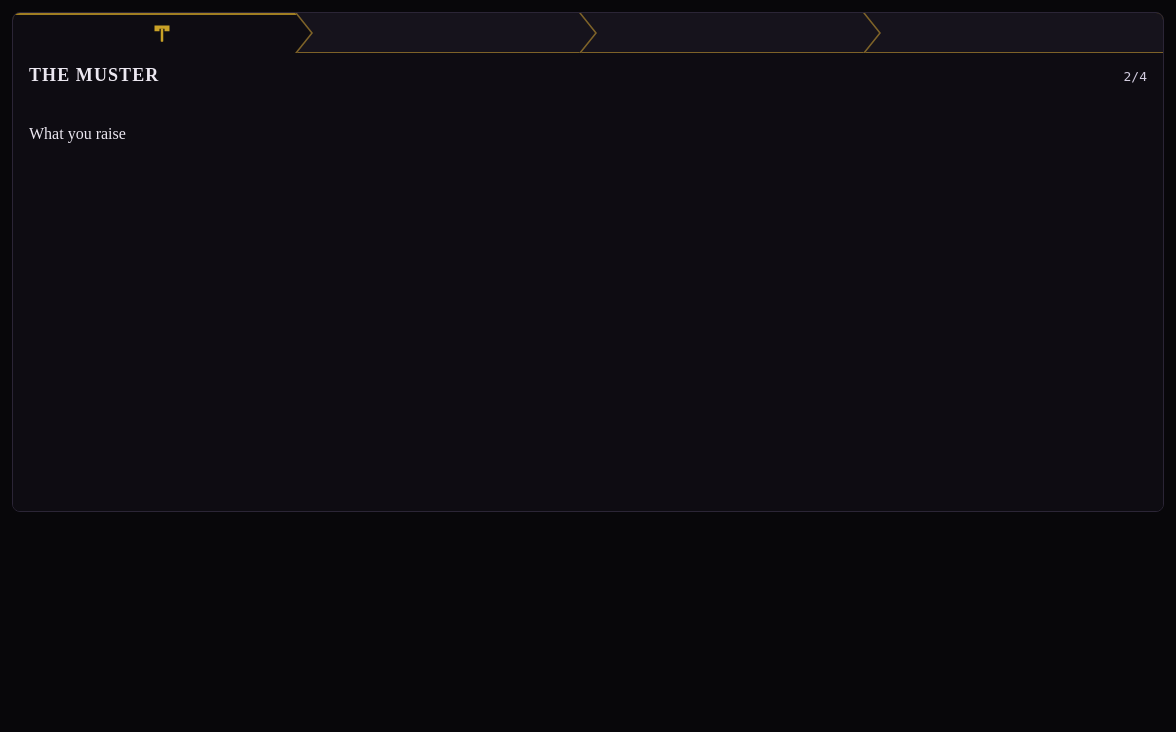
Scenario: Deck › jumps to the last tab on End
This screenshot has width=1176, height=732.
Click the 1st tab named "The Muster".
click(162, 33)  # box top-left (13, 13), bottom-right (311, 53)
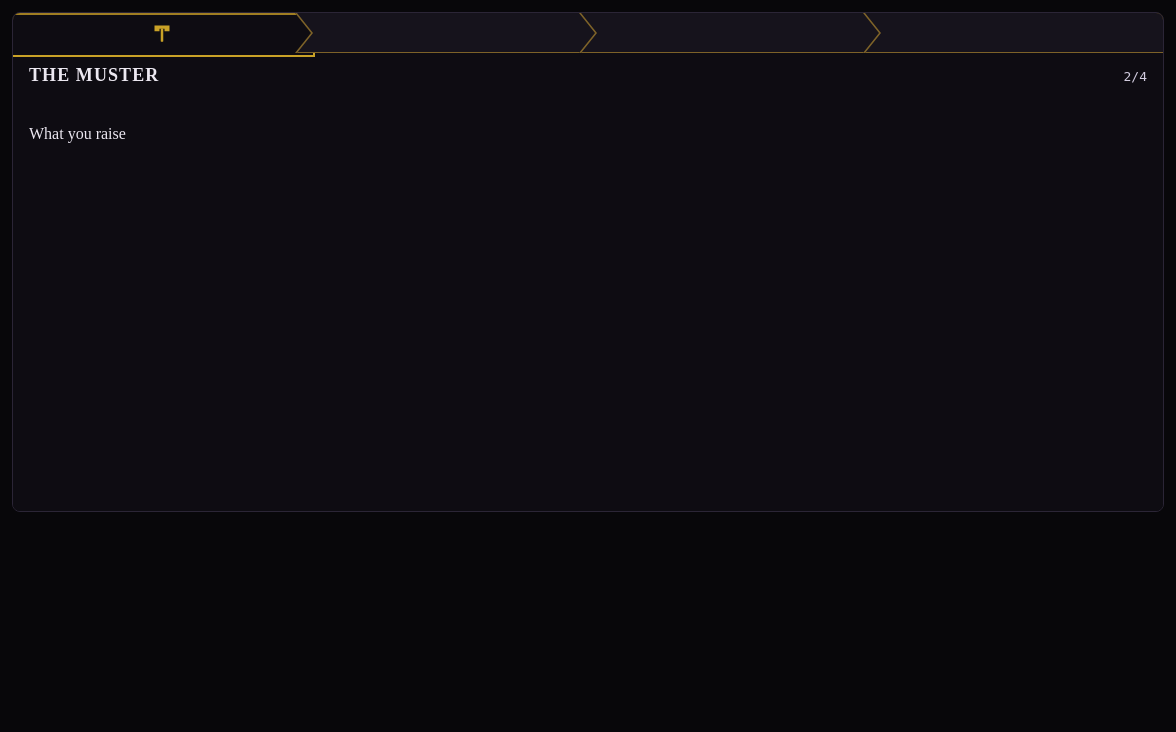
Press End
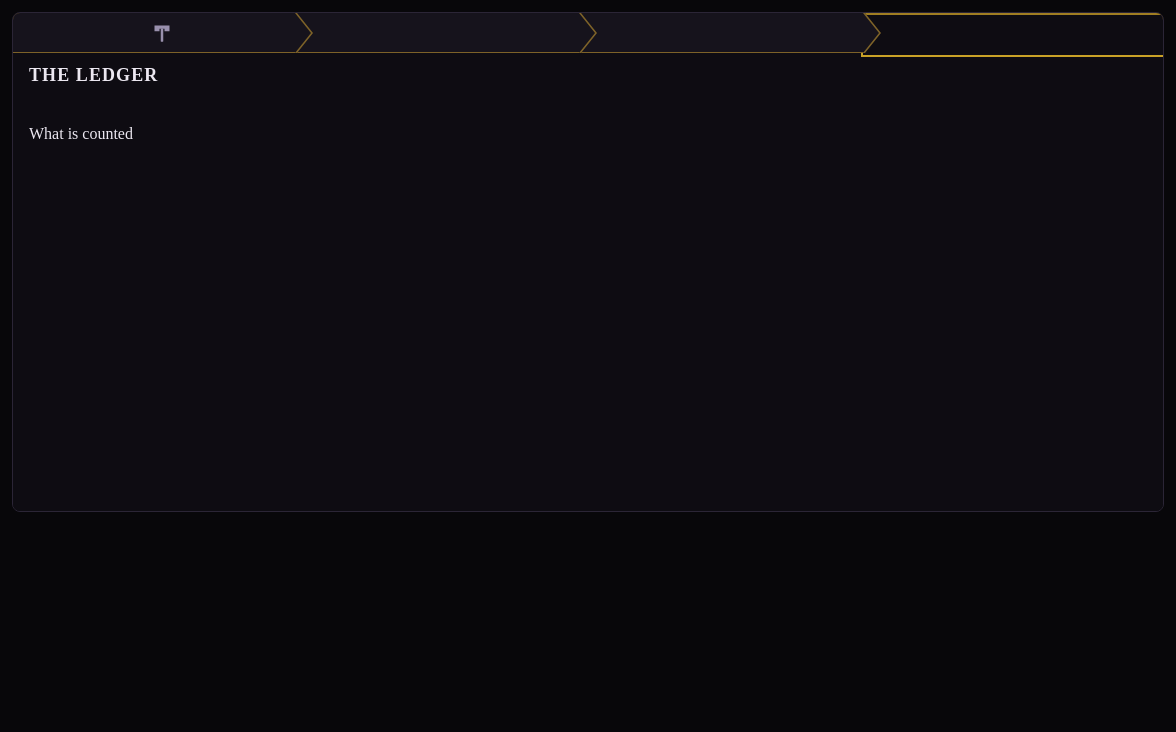
Result: the panel named "The ledger" is shown at top-left (29, 125), bottom-right (133, 142)
